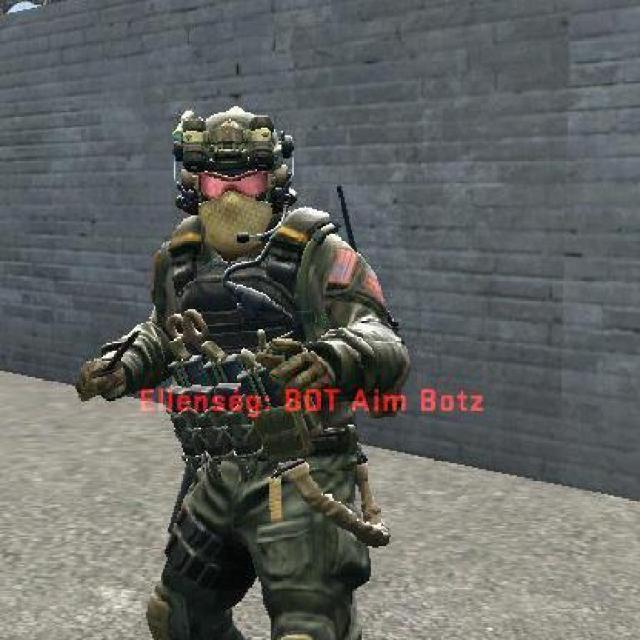CT: (70, 104, 416, 638)
CT_HEAD: (163, 102, 303, 260)
